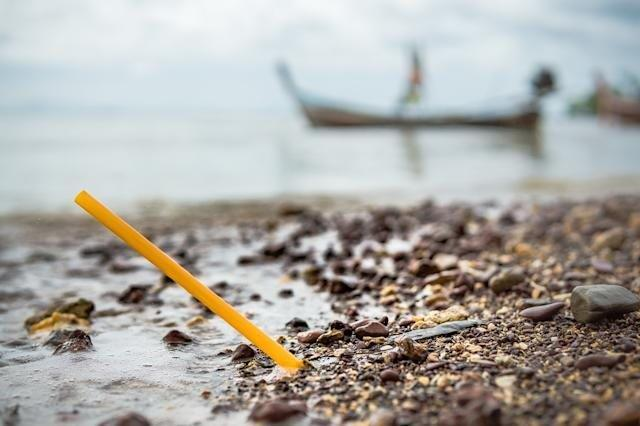sedotan: (72, 188, 309, 376)
